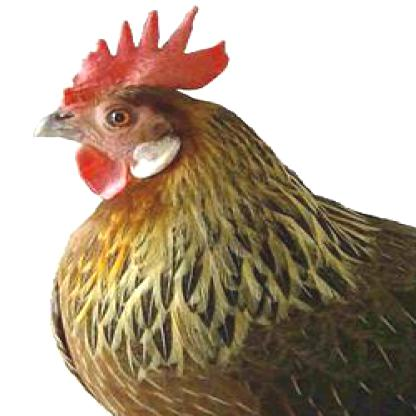chicken: (28, 3, 416, 414)
